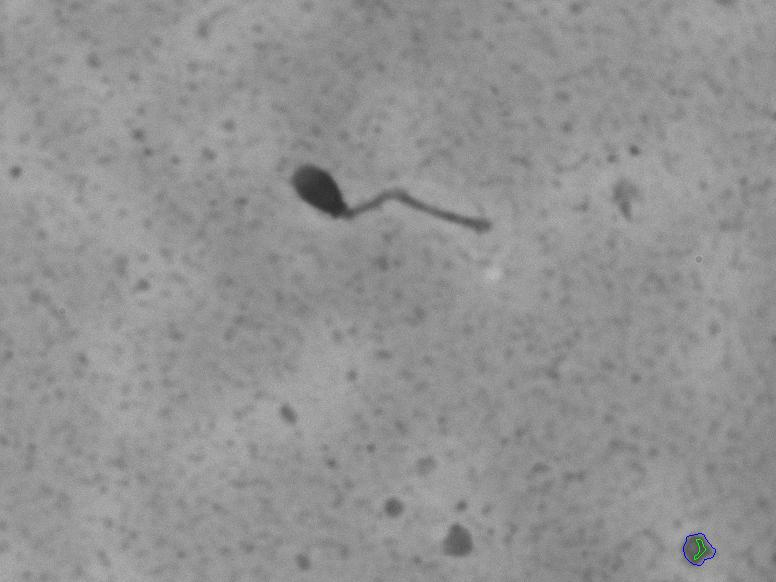Abnormal: (243, 116, 558, 290)
